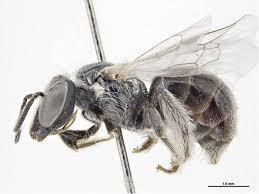Braunsapis: (17, 10, 245, 179)
